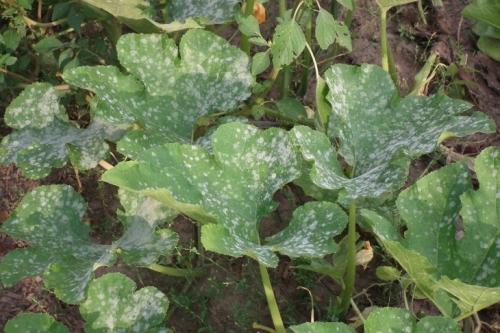Squash Powdery mildew leaf: (112, 119, 348, 262), (1, 26, 257, 147), (293, 56, 491, 207)
